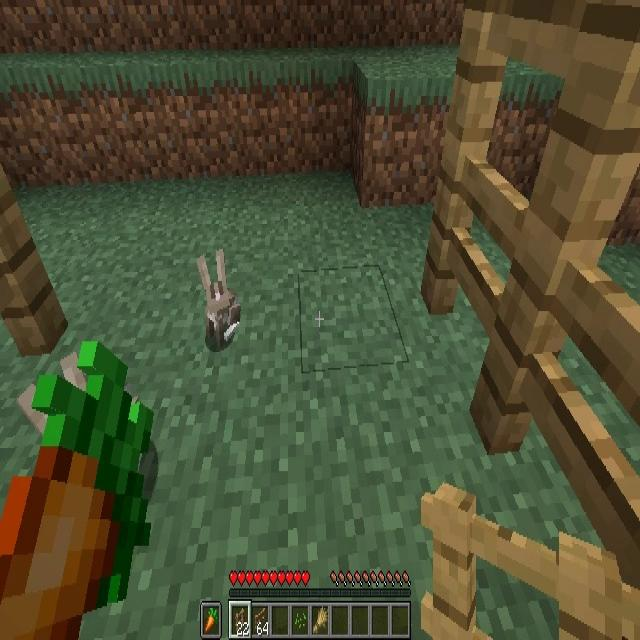duck: (198, 249, 241, 349)
